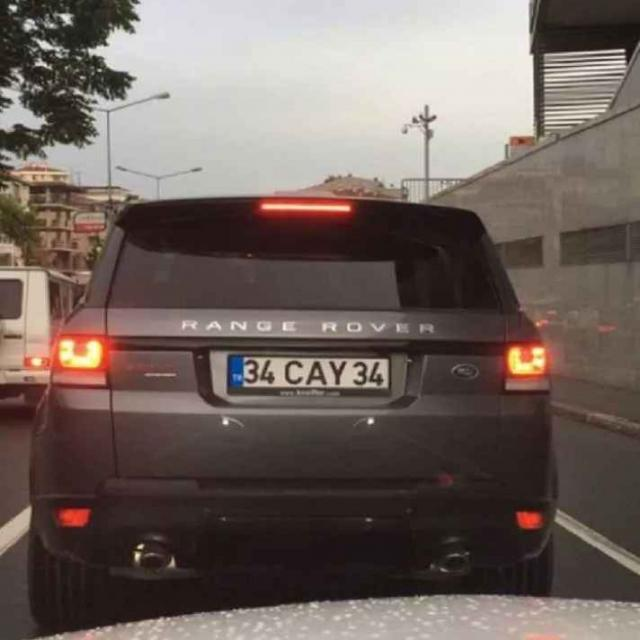plate: (226, 353, 394, 398)
